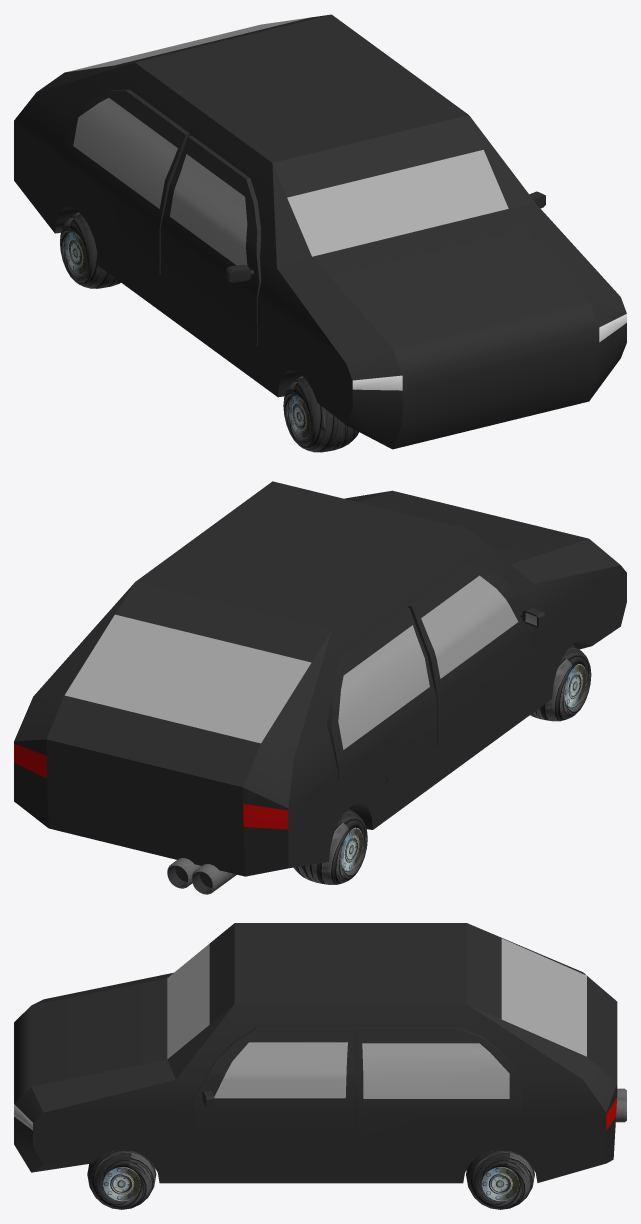
The model's file is MC car.fbx.
3 renders of one model, top to bottom at view 1: azimuth 30°, elevation 25°; view 2: azimuth 150°, elevation 25°; view 3: azimuth 270°, elevation 25°, orthographic. The views are drawn at different scales.
Visible parts, largest first — view 1: car, FrontWheelR, BackWheelR; view 2: car, BackWheelR, FrontWheelR, exhaust1, exhaust; view 3: car, FrontWheelL, BackWheelL.
Part boxes in pixels (box(x1,y1,x2,y2)): car: box(14, 14, 626, 449); FrontWheelR: box(283, 376, 358, 452); BackWheelR: box(60, 212, 120, 288); car: box(14, 481, 626, 876); BackWheelR: box(293, 808, 367, 884); FrontWheelR: box(530, 645, 591, 721); exhaust1: box(191, 864, 236, 894); exhaust: box(167, 858, 200, 888); car: box(14, 923, 617, 1183); FrontWheelL: box(87, 1149, 156, 1209); BackWheelL: box(466, 1149, 534, 1209).
Bounding box in the file's own units: 13.33 × 9.36 × 26.37.
